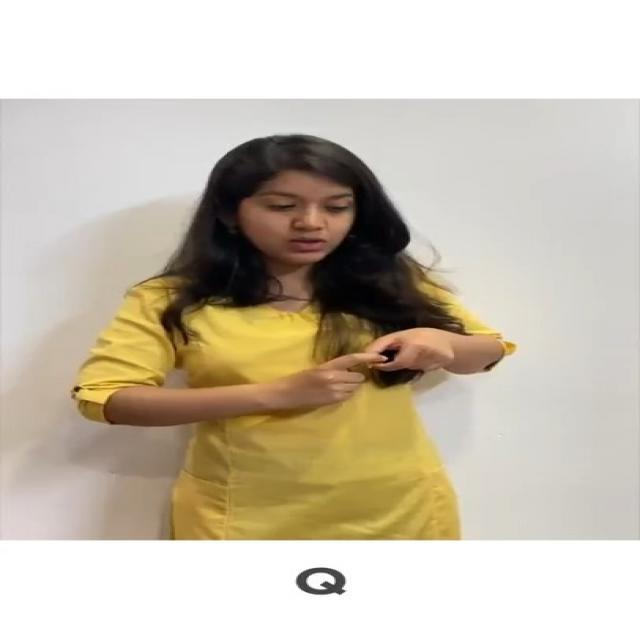Q: (253, 322, 486, 419)
